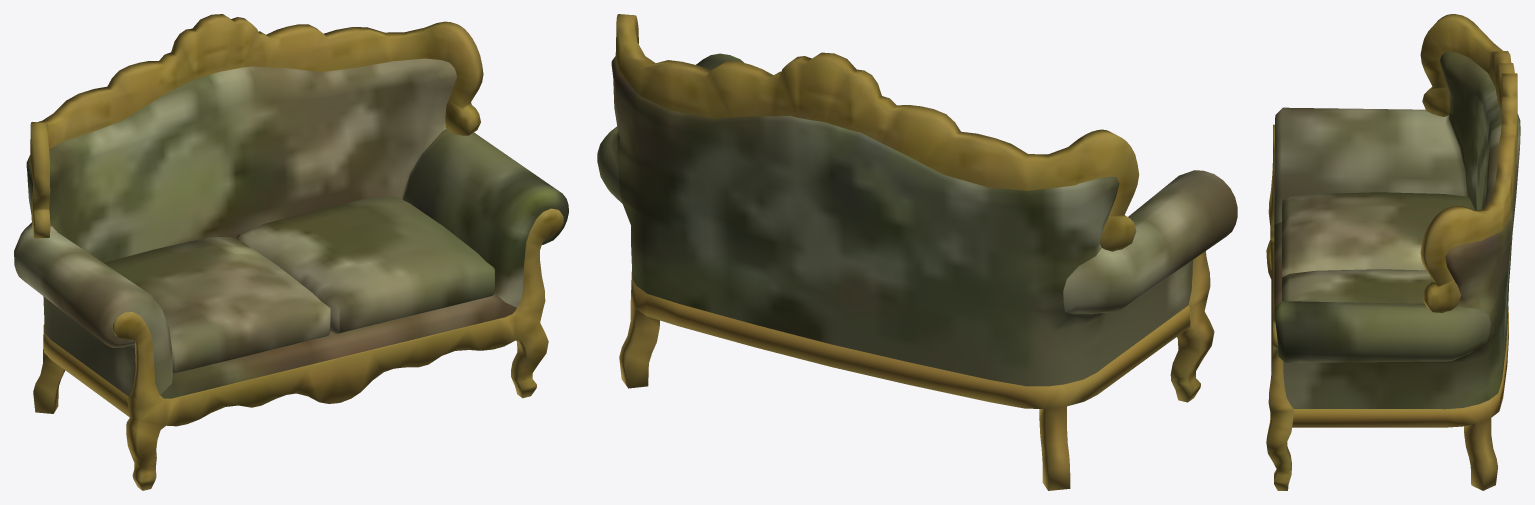
3 renders of one model, left to right at view 1: azimuth 30°, elevation 25°; view 2: azimuth 150°, elevation 25°; view 3: azimuth 270°, elevation 25°, orthographic. The views are drawn at different scales.
Bounding box in the file's own units: 19.44 × 13.28 × 9.49.
Materials: 2 (2 with a texture image).
